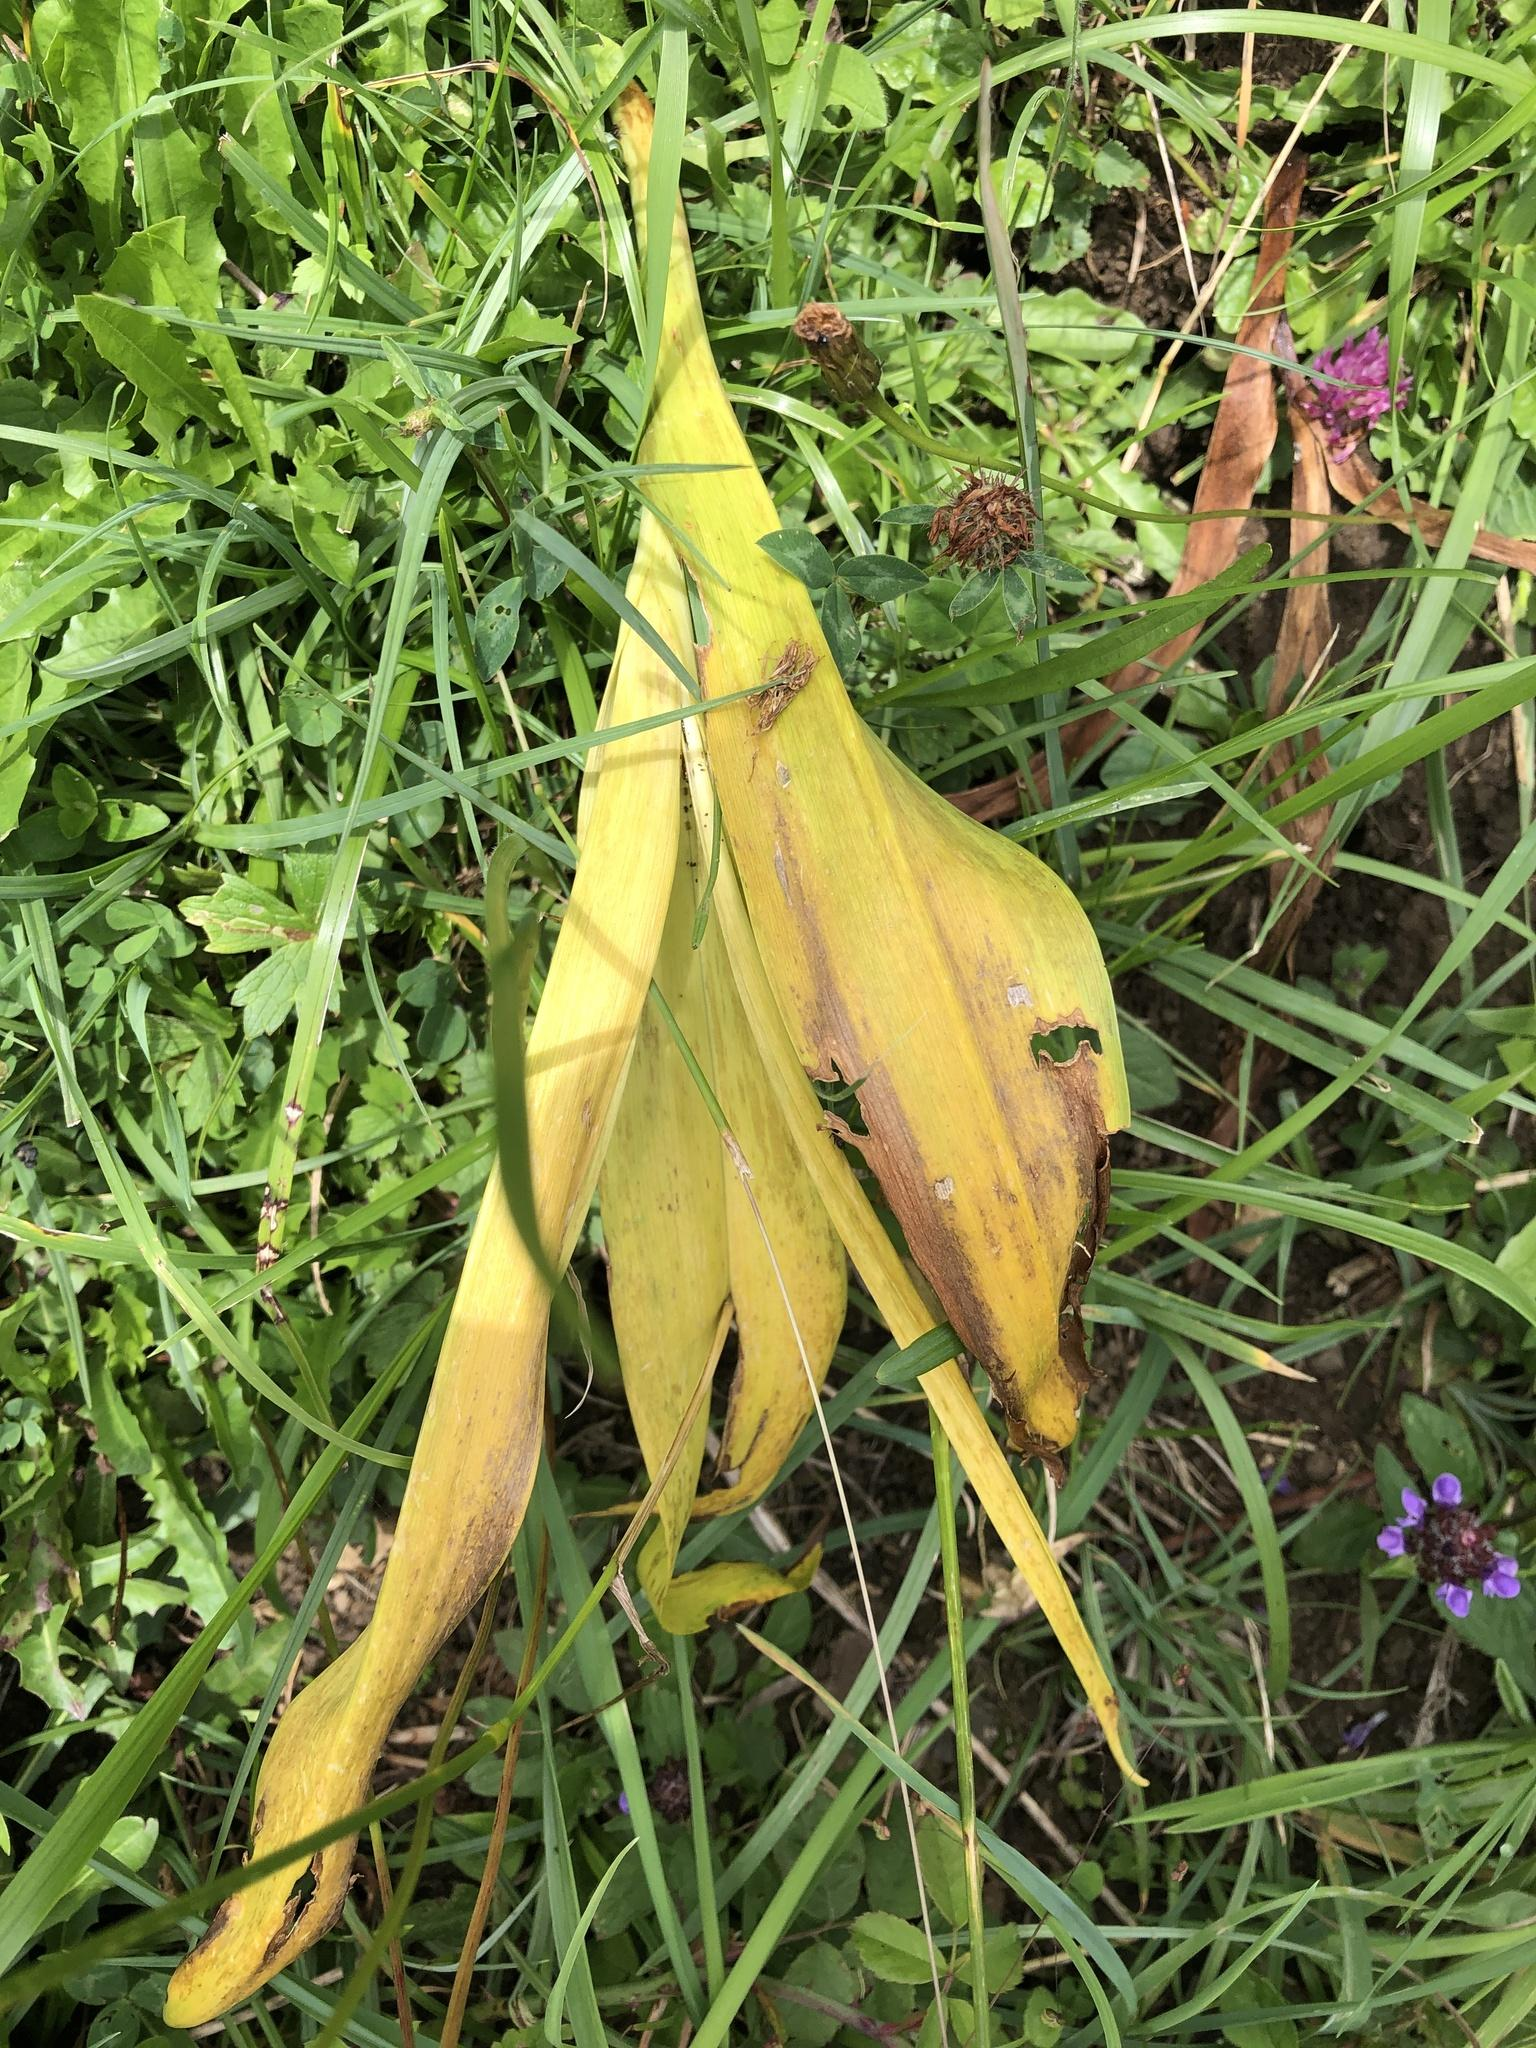Colchicum autumnale L: (182, 68, 1249, 2006)
